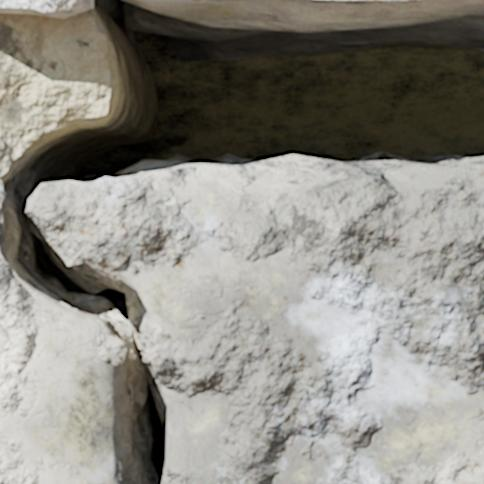broken_brick: (27, 165, 483, 483), (0, 253, 125, 483), (248, 0, 480, 10), (0, 0, 91, 19), (0, 178, 3, 237), (150, 0, 207, 1)
crack: (0, 0, 483, 483)
